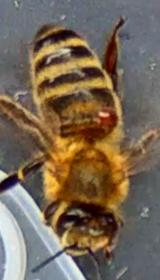varroa_mite: (88, 99, 127, 145)
